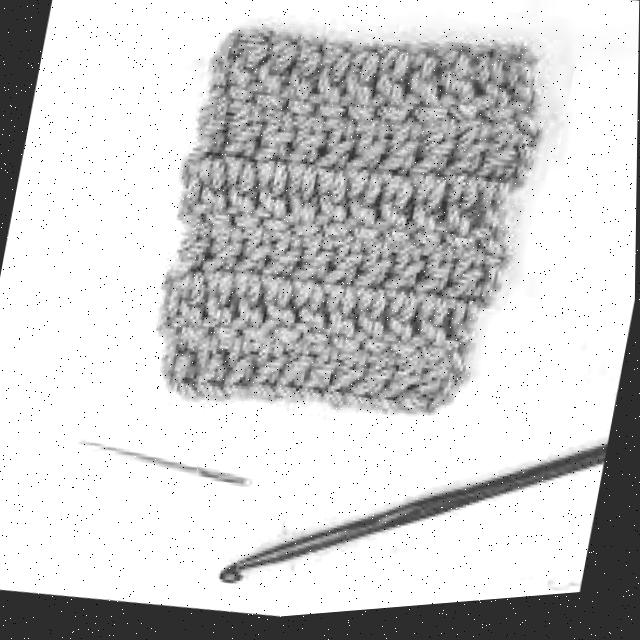ch: (494, 46, 535, 72), (436, 44, 471, 64), (464, 42, 500, 61), (239, 23, 277, 41), (403, 43, 443, 60), (373, 43, 414, 58), (346, 39, 376, 56), (295, 31, 326, 46), (320, 40, 355, 52), (272, 31, 300, 44)
dc: (435, 54, 483, 130), (445, 125, 489, 201), (407, 58, 447, 141), (366, 59, 412, 131), (234, 213, 277, 289), (412, 121, 458, 191), (439, 249, 485, 319), (474, 60, 514, 140), (277, 50, 322, 118), (353, 234, 398, 302), (404, 358, 453, 420), (341, 52, 380, 129), (344, 123, 388, 190), (435, 179, 479, 246), (295, 279, 331, 359), (292, 227, 333, 297), (324, 349, 371, 409), (309, 53, 351, 119), (342, 171, 381, 242), (406, 178, 446, 247), (323, 233, 363, 302), (349, 354, 395, 414), (477, 132, 518, 199), (327, 280, 363, 356), (170, 274, 206, 350), (380, 354, 423, 417), (204, 216, 243, 285), (164, 338, 206, 402), (262, 225, 302, 292), (193, 337, 234, 402), (225, 101, 262, 172), (382, 240, 424, 302), (255, 45, 295, 110), (413, 248, 455, 309), (380, 124, 419, 189), (228, 44, 270, 104), (197, 94, 235, 160), (506, 66, 538, 143), (315, 116, 354, 179), (285, 167, 319, 238), (255, 113, 292, 178), (378, 173, 414, 239), (232, 273, 264, 347), (251, 338, 289, 399), (262, 275, 294, 347), (287, 117, 325, 177), (258, 161, 291, 230), (204, 273, 236, 343), (474, 185, 511, 244), (305, 345, 342, 404), (227, 159, 259, 227), (386, 291, 415, 364), (314, 172, 347, 236), (194, 156, 227, 218), (177, 213, 211, 273), (448, 305, 480, 368), (357, 289, 387, 356), (278, 342, 312, 401), (220, 346, 257, 396), (419, 297, 445, 366)
